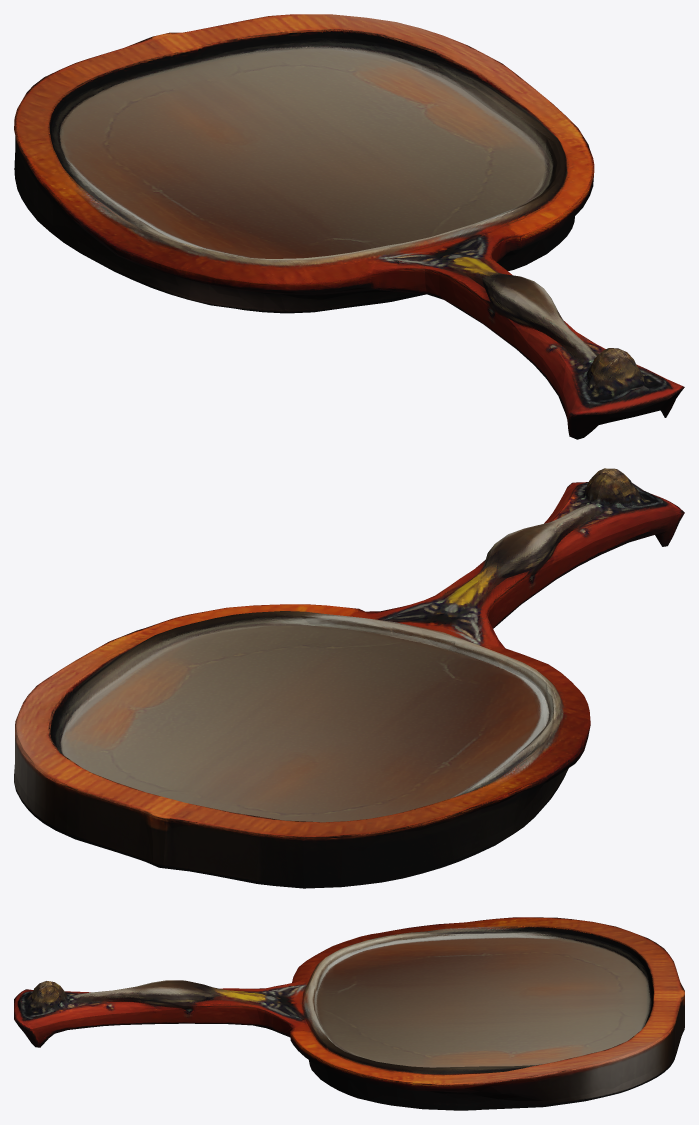
The model's file is wooden-hand-mirror-art-deco.jpeg.glb.
The picture shows the model from 3 angles, top to bottom: view 1: azimuth 30°, elevation 25°; view 2: azimuth 150°, elevation 25°; view 3: azimuth 270°, elevation 25°; orthographic projection. The views are drawn at different scales.
Parts seen in each view (by area): view 1: world; view 2: world; view 3: world.
Part boxes in pixels (x1,y1,x2,y2): world: (14, 14, 684, 439); world: (14, 468, 684, 888); world: (14, 917, 684, 1110).
Size of the model in its own units: 0.5745 by 0.09 by 0.9998.
Materials: 1 (1 with a texture image).
